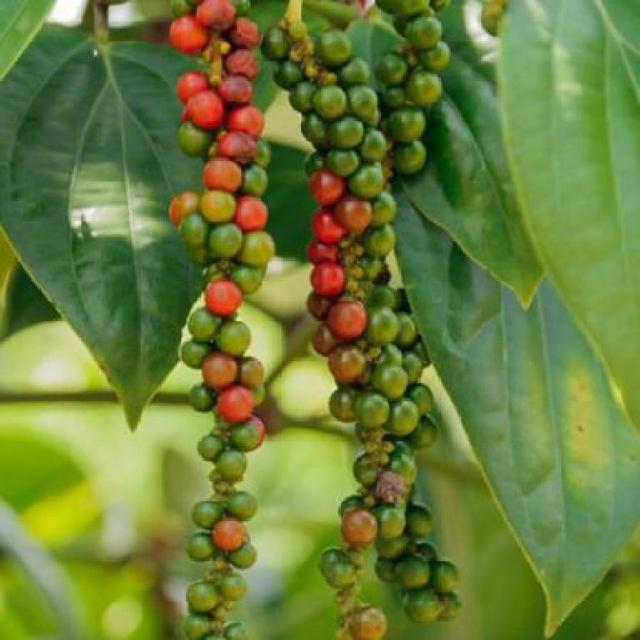RIPE: (144, 0, 282, 454), (310, 161, 355, 407)
UNRIPE: (377, 306, 457, 635), (357, 12, 452, 188)
